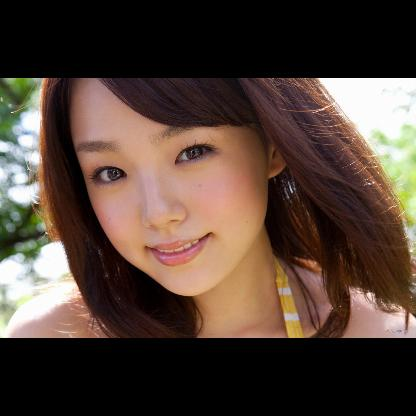Female: (70, 78, 288, 294)
